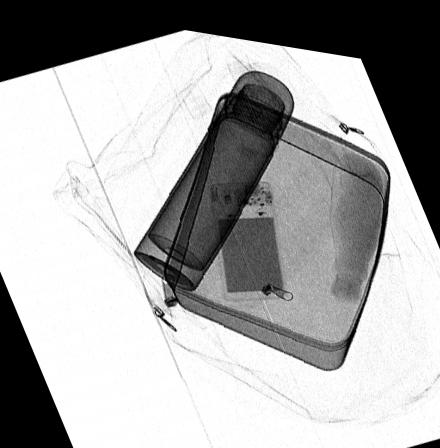Powerbank: (207, 170, 287, 294)
